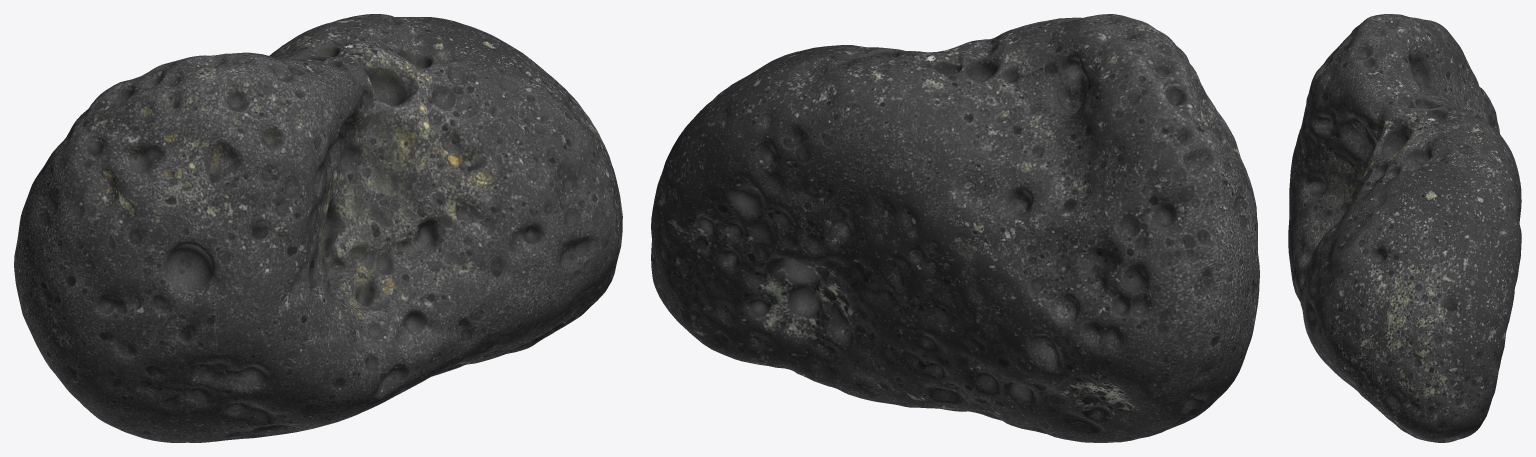
File: 4_basaltic_rock.glb
The picture shows the model from 3 angles, left to right: view 1: azimuth 30°, elevation 25°; view 2: azimuth 150°, elevation 25°; view 3: azimuth 270°, elevation 25°; orthographic projection. The views are drawn at different scales.
Parts seen in each view (by area): view 1: Object_2; view 2: Object_2; view 3: Object_2.
Boxes of the visible parts, box(x1,y1,x2,y2) form: Object_2: box(14, 14, 622, 442); Object_2: box(651, 14, 1259, 442); Object_2: box(1288, 14, 1521, 442).
Size of the model in its own units: 3.73 by 2.44 by 1.71.
1 material, 1 textured.
